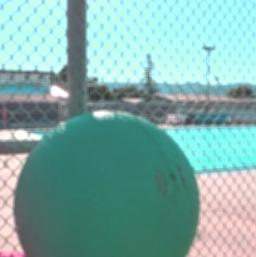algae: (13, 109, 202, 257)
